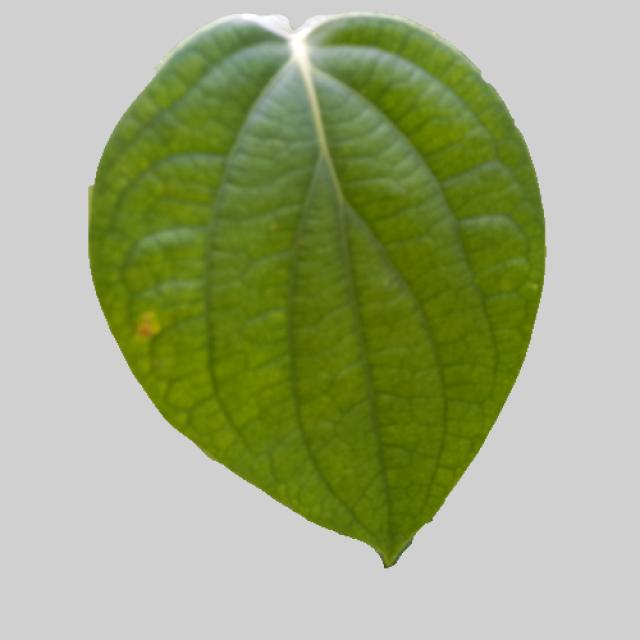healthy: (85, 13, 558, 580)
